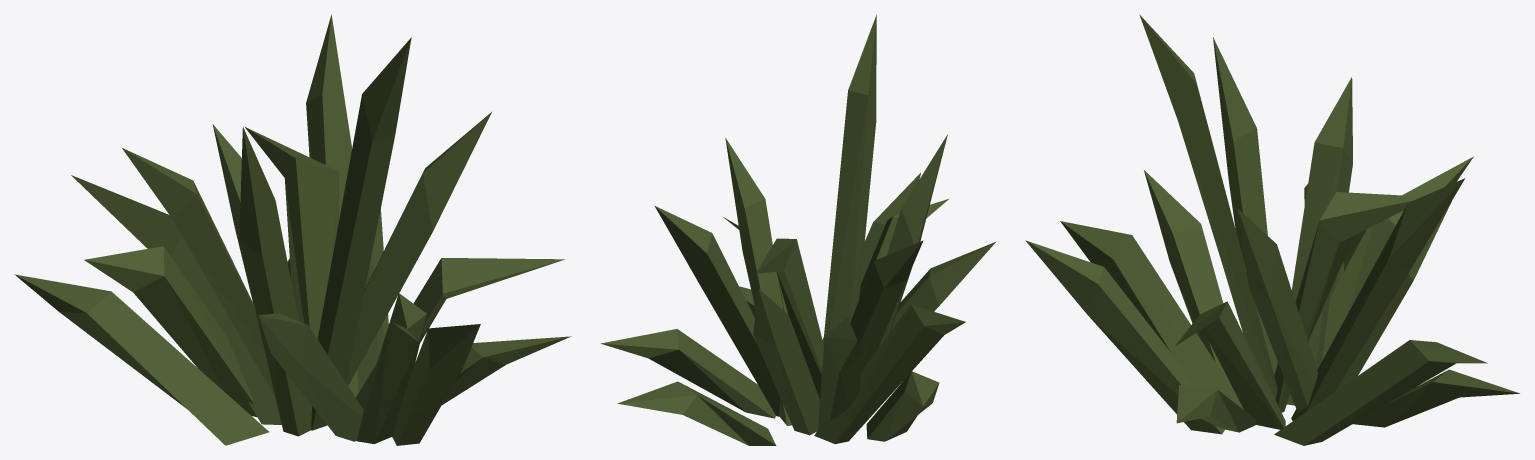
File: SM_Env_Grass_01.glb
The picture shows the model from 3 angles, left to right: view 1: azimuth 30°, elevation 25°; view 2: azimuth 150°, elevation 25°; view 3: azimuth 270°, elevation 25°; orthographic projection. The views are drawn at different scales.
Parts seen in each view (by area): view 1: SM_Env_Grass_01; view 2: SM_Env_Grass_01; view 3: SM_Env_Grass_01.
Boxes of the visible parts, x1=… form: SM_Env_Grass_01: x1=14, y1=14, x2=571, y2=445; SM_Env_Grass_01: x1=601, y1=15, x2=996, y2=445; SM_Env_Grass_01: x1=1025, y1=14, x2=1519, y2=445.
Bounding box in the file's own units: 0.0156 × 0.0159 × 0.0179.
